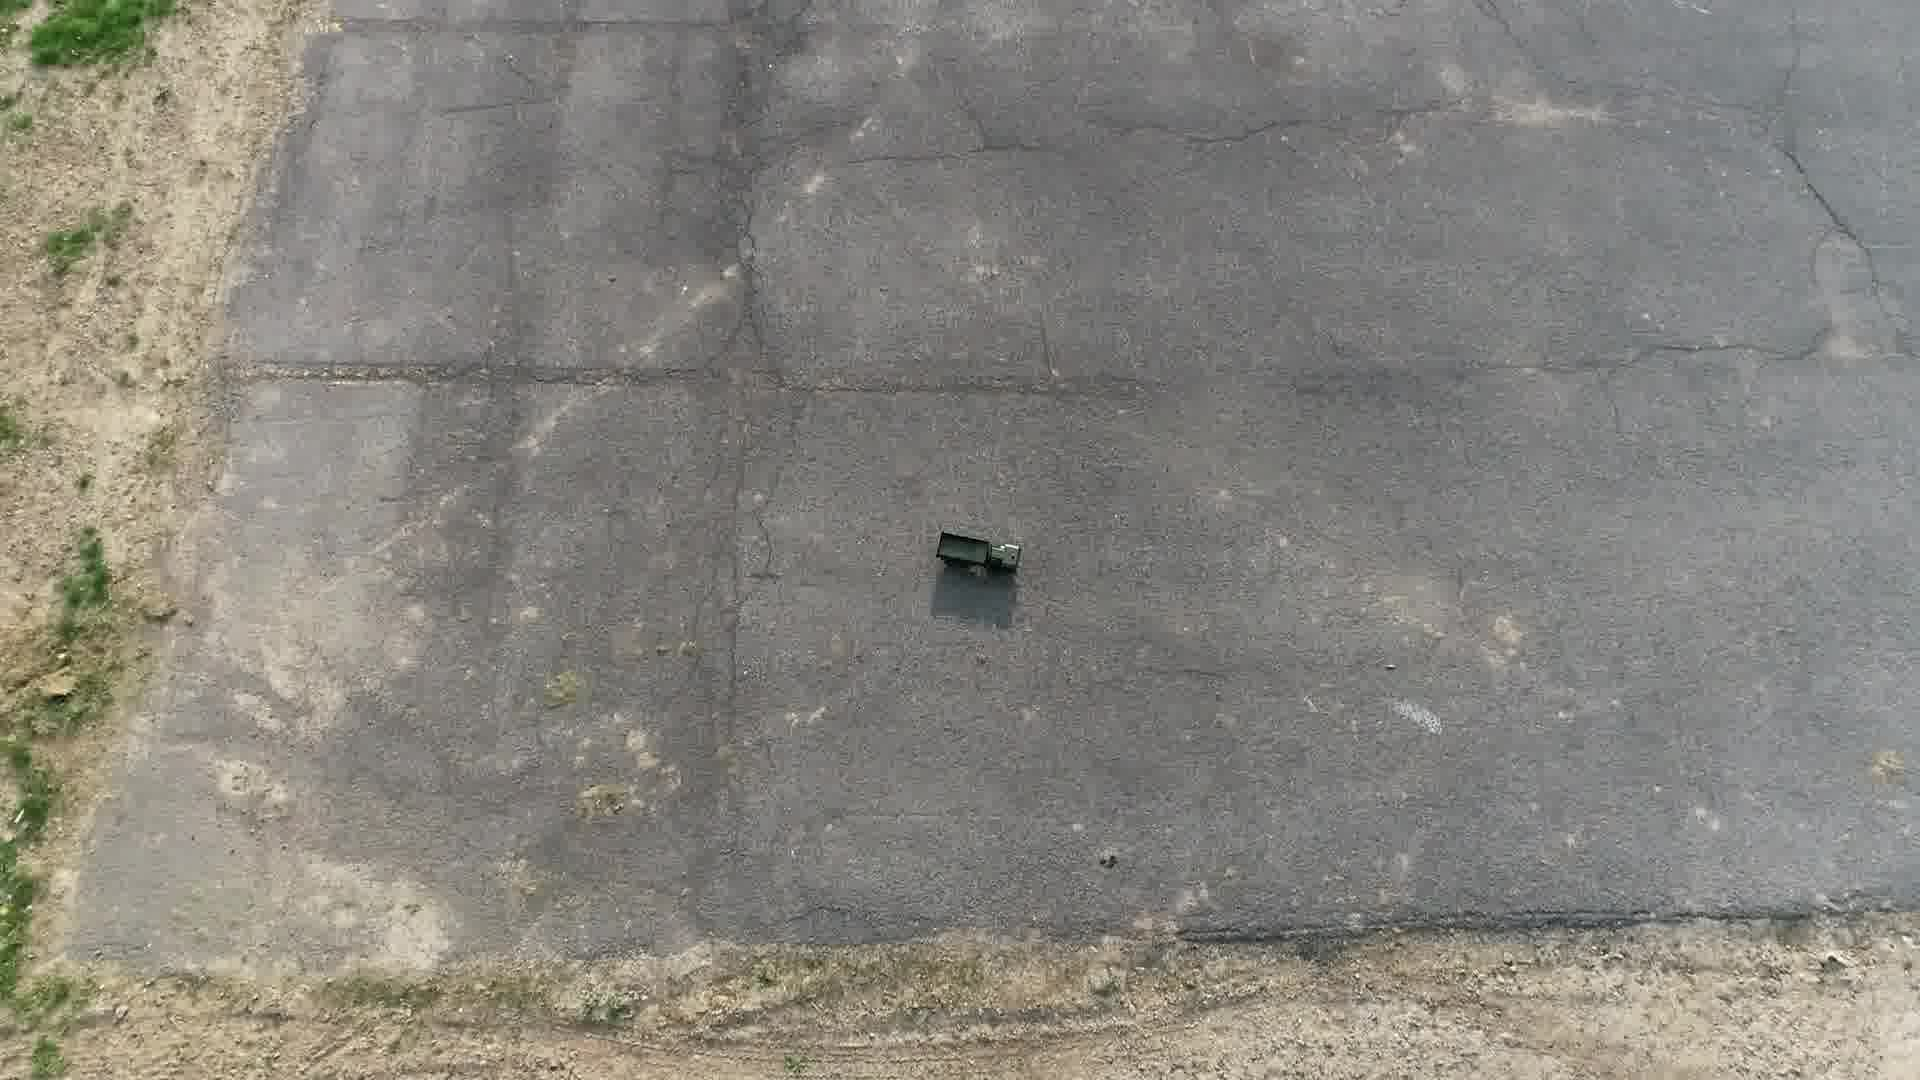transporter9: (934, 527, 1026, 585)
